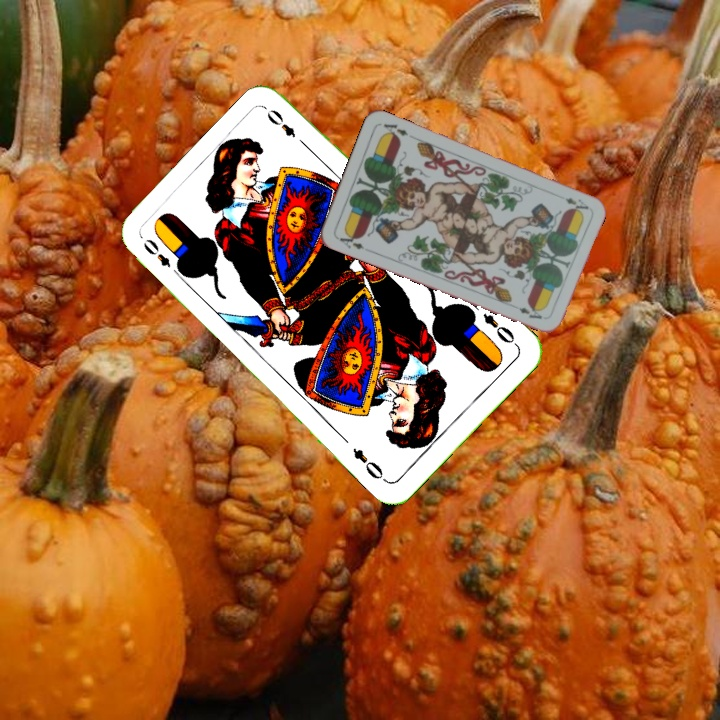EA: (335, 229, 367, 252), (561, 193, 591, 212)
EO: (139, 234, 185, 281), (478, 309, 521, 349)
